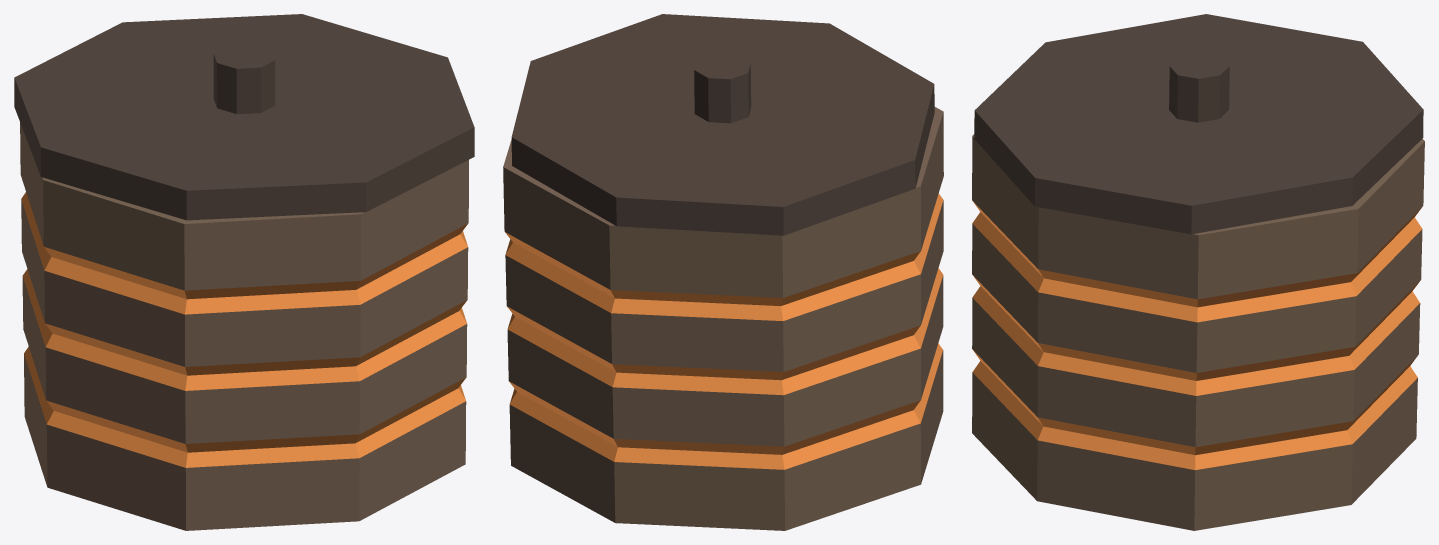
Rendered from Closed_bowl.fbx.
3 renders of one model, left to right at view 1: azimuth 30°, elevation 25°; view 2: azimuth 150°, elevation 25°; view 3: azimuth 270°, elevation 25°, orthographic. The views are drawn at different scales.
Parts seen in each view (by area): view 1: Closed_bowl; view 2: Closed_bowl; view 3: Closed_bowl.
Boxes of the visible parts, bbox=[...] form: Closed_bowl: bbox=[14, 14, 474, 530]; Closed_bowl: bbox=[503, 14, 943, 530]; Closed_bowl: bbox=[972, 14, 1424, 530].
Size of the model in its own units: 21.71 by 21.72 by 19.78.
